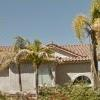Palm tree: (5, 31, 52, 99)
